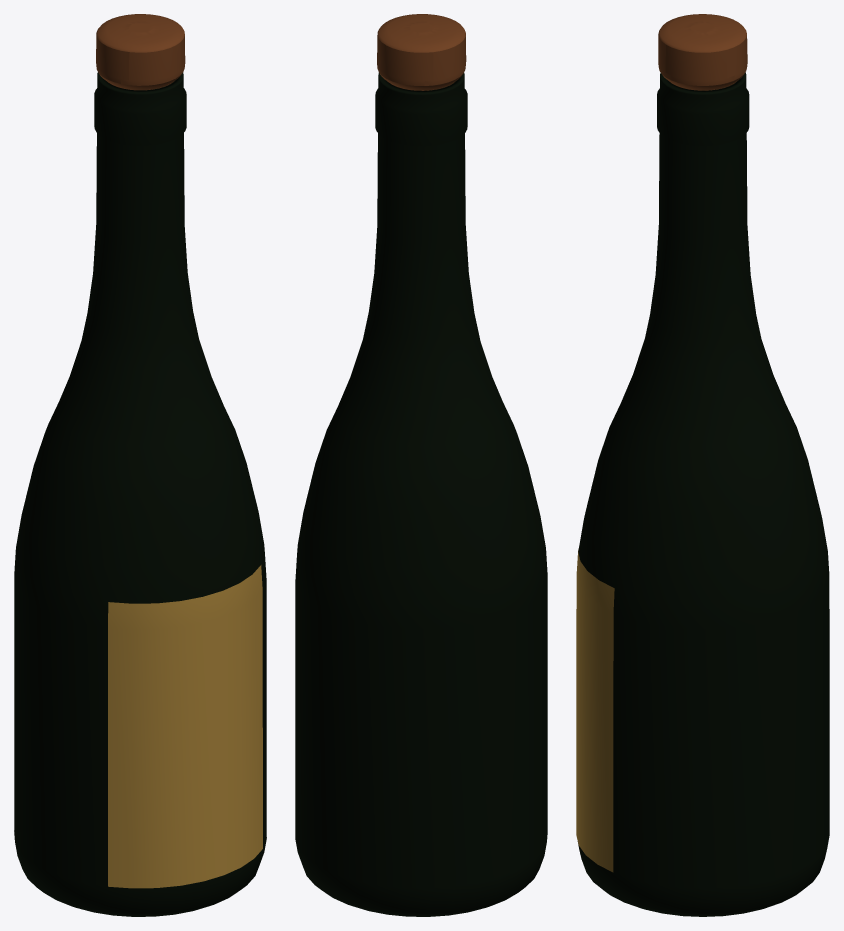
File: Wine_Bottle_Red.fbx
The picture shows the model from 3 angles, left to right: view 1: azimuth 30°, elevation 25°; view 2: azimuth 150°, elevation 25°; view 3: azimuth 270°, elevation 25°; orthographic projection.
Size of the model in its own units: 2.59 by 9.53 by 2.59.
